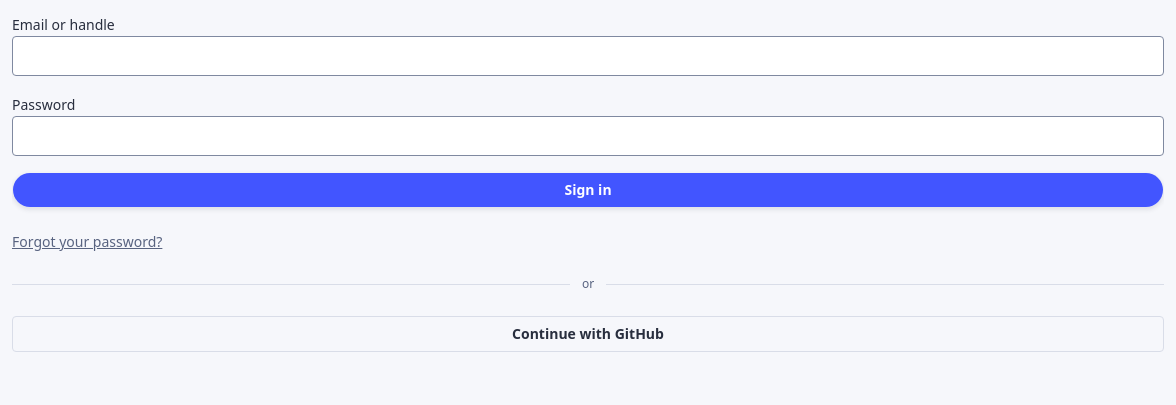
Test: LoginForm › shows ONE generic message on a failed sign-in, with no resend control
The image size is (1176, 405).
Type "alice" into the field labelled "Email or handle" at (588,56), box [12,36,1164,76]
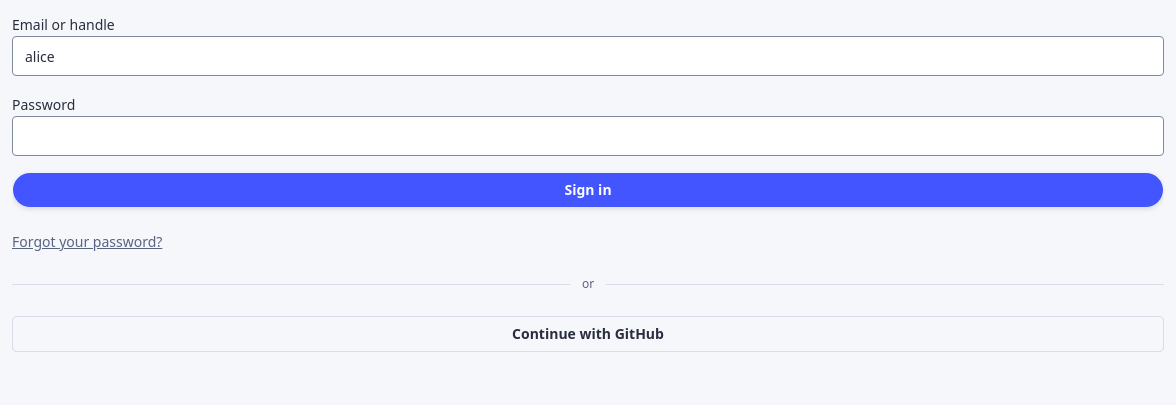
Type "wrongwrongwrong" into the password field labelled "Password" at (588,136), box [12,116,1164,156]
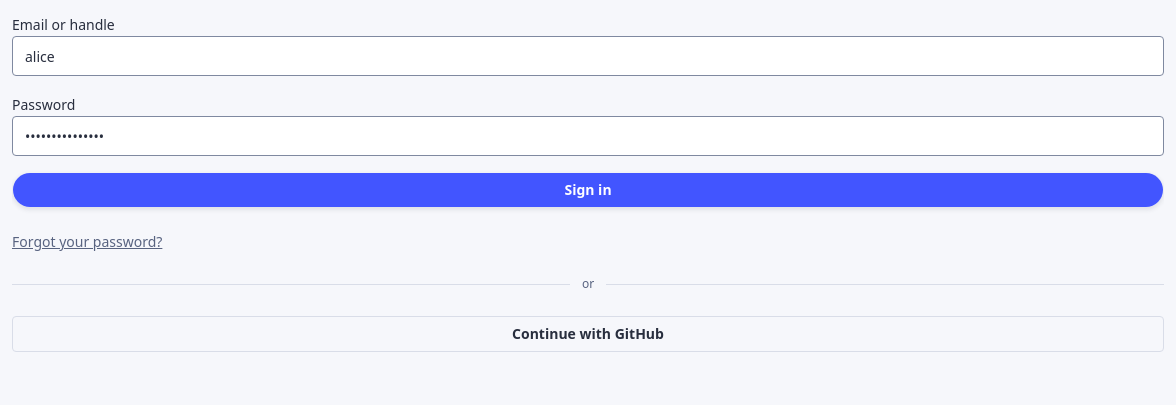
Click the button "Sign in" at (588,190), box [12,172,1164,208]
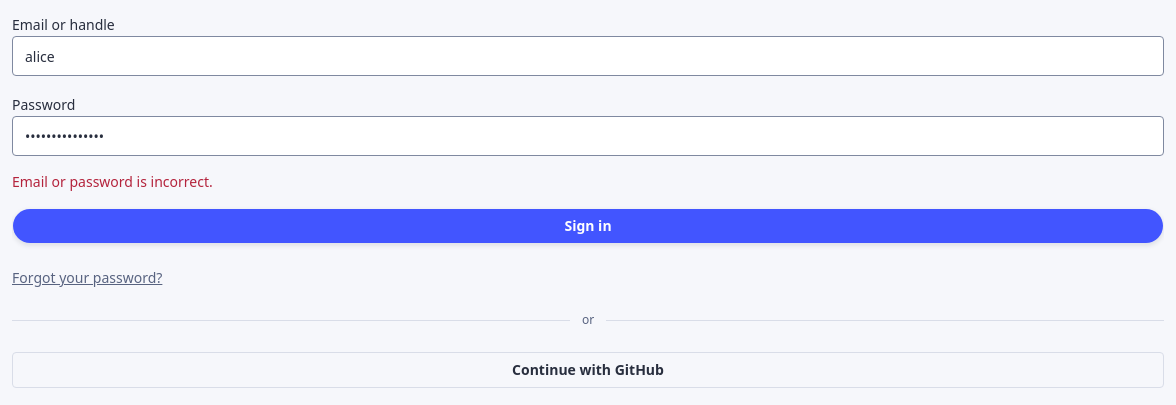
Expected: the message shows "Email or password is incorrect", [12,172,213,191]
